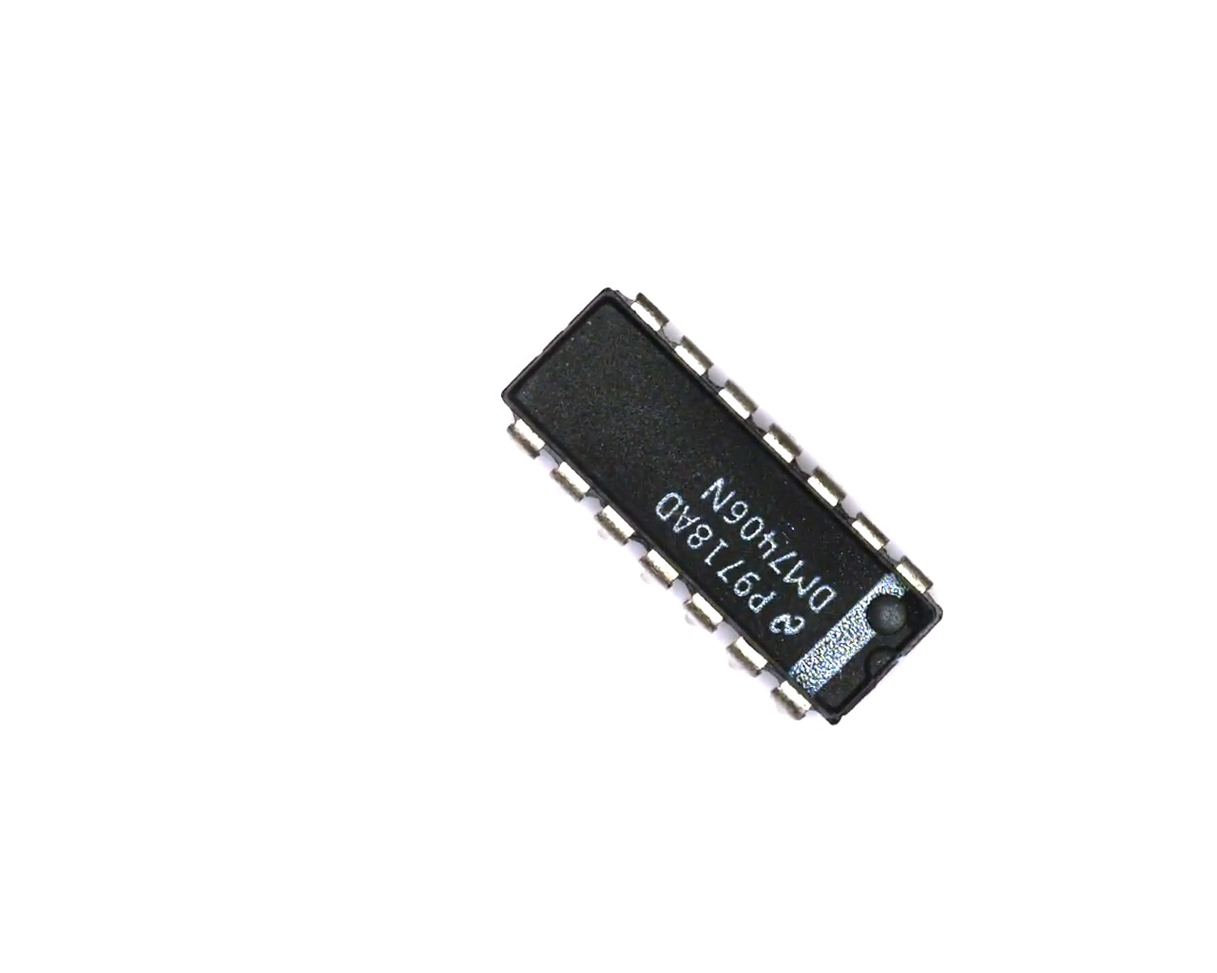IC: (457, 245, 976, 756)
notch: (860, 641, 901, 688)
